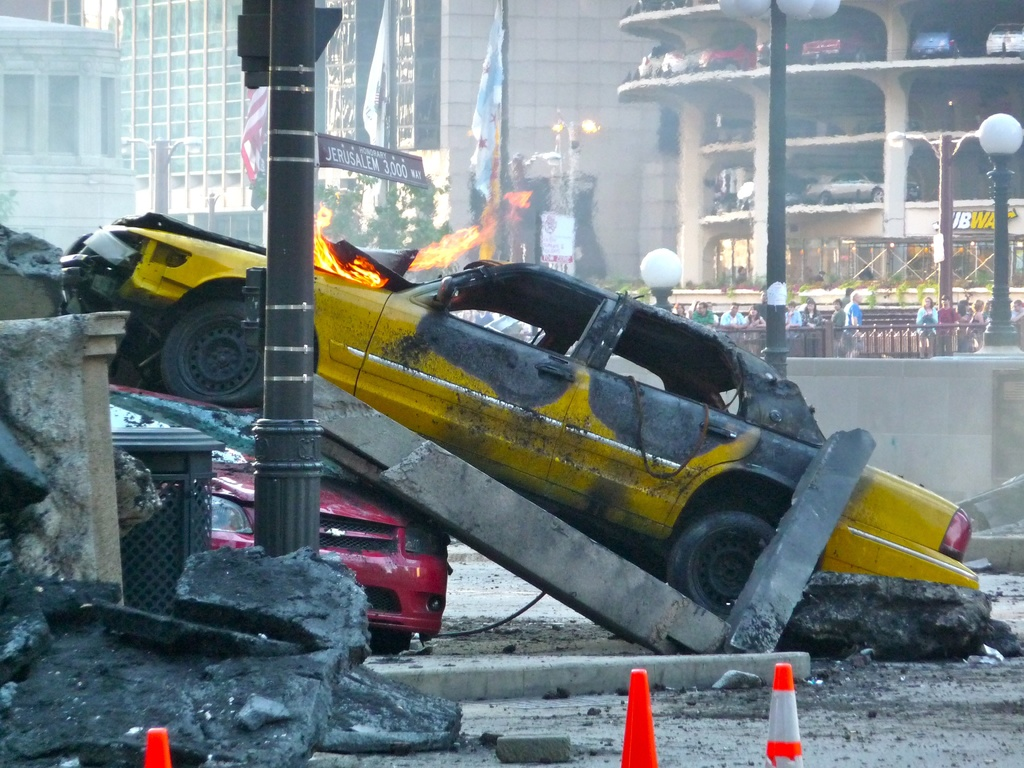Car: (59, 211, 979, 622)
